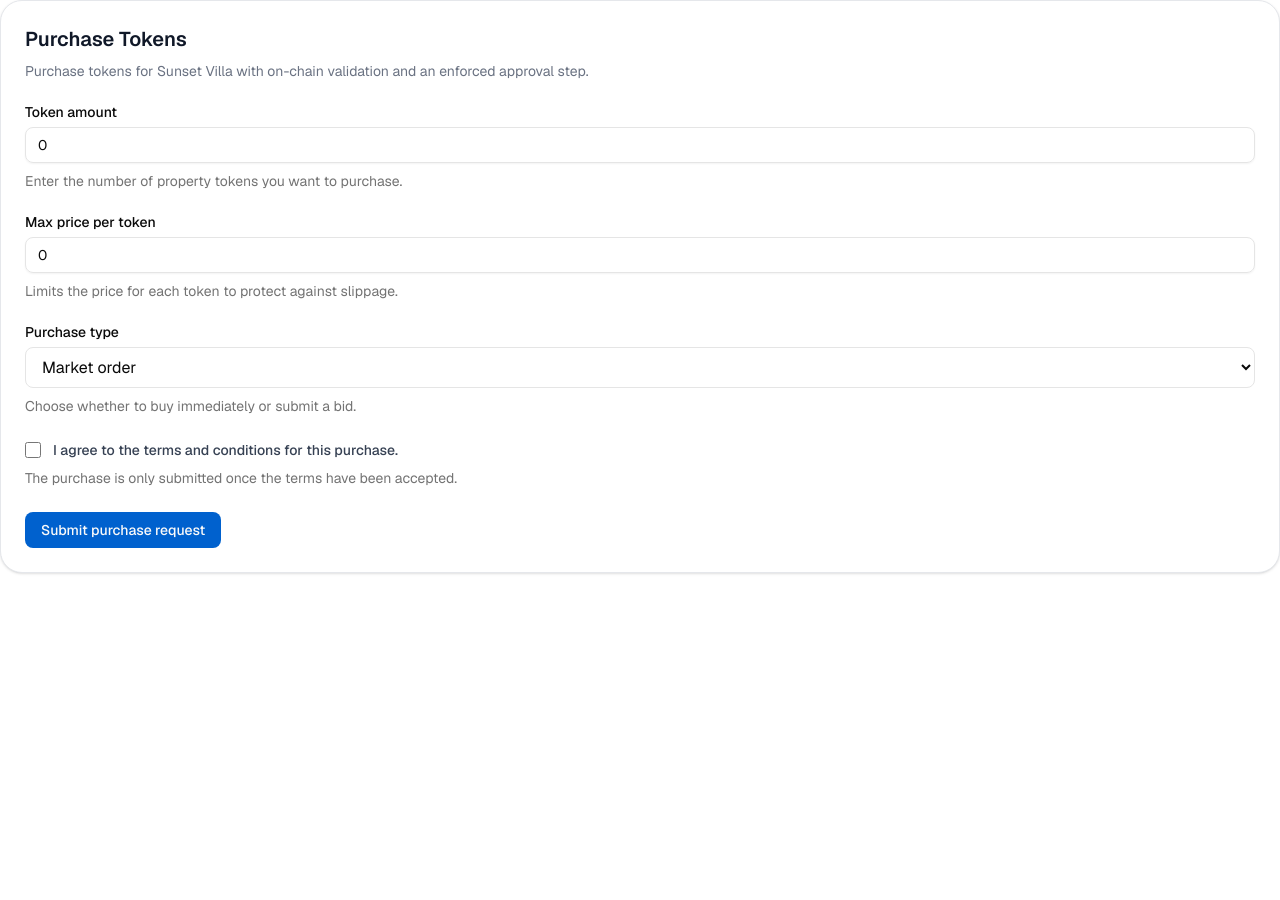
PurchaseTokenForm › validation › refuses a token amount that is not a whole number
This screenshot has width=1280, height=900.
Replace the text in the number field labelled "Token amount" with "1.5" at (640,145), box [25,127,1255,163]
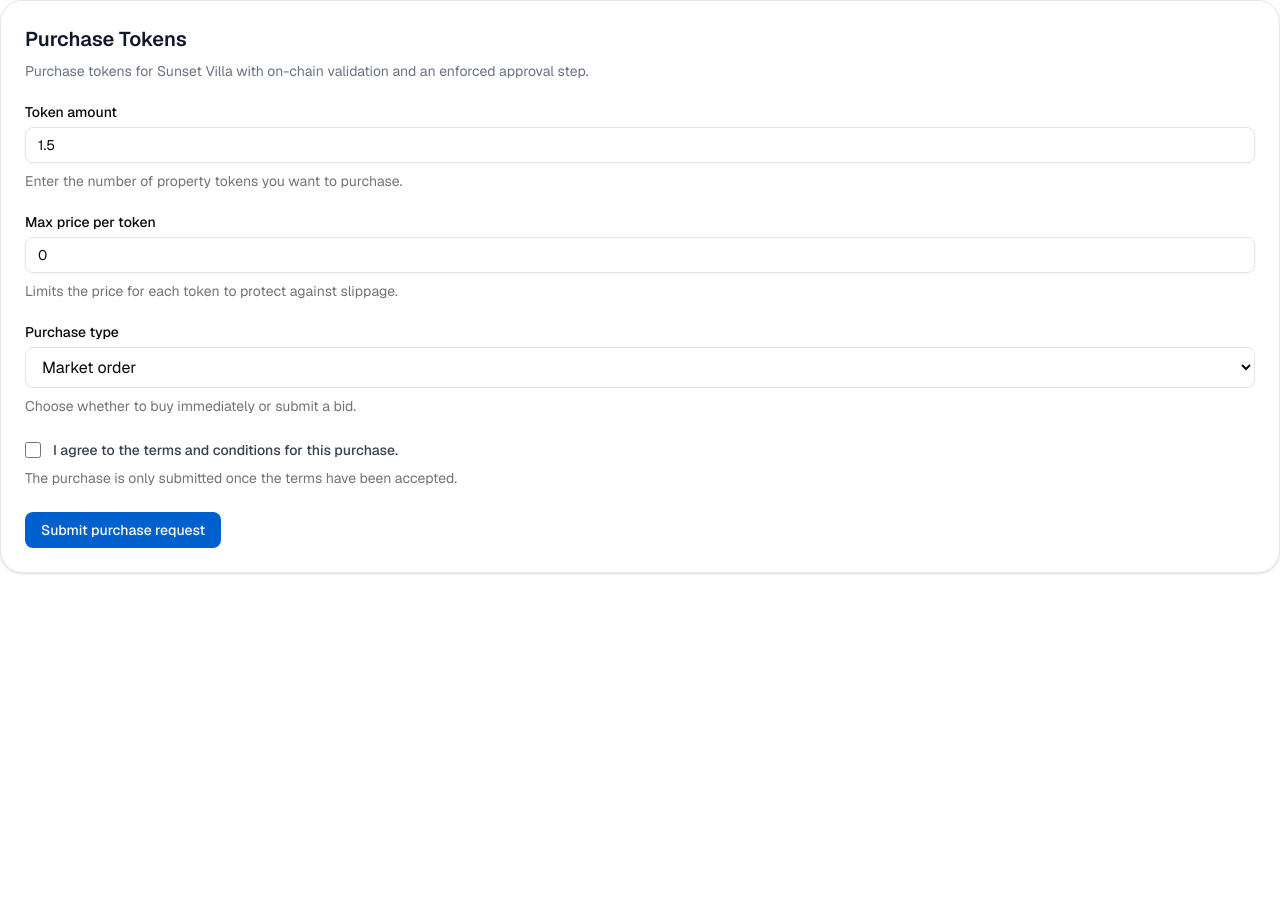
Replace the text in the number field labelled "Max price per token" with "250" at (640,255), box [25,237,1255,273]
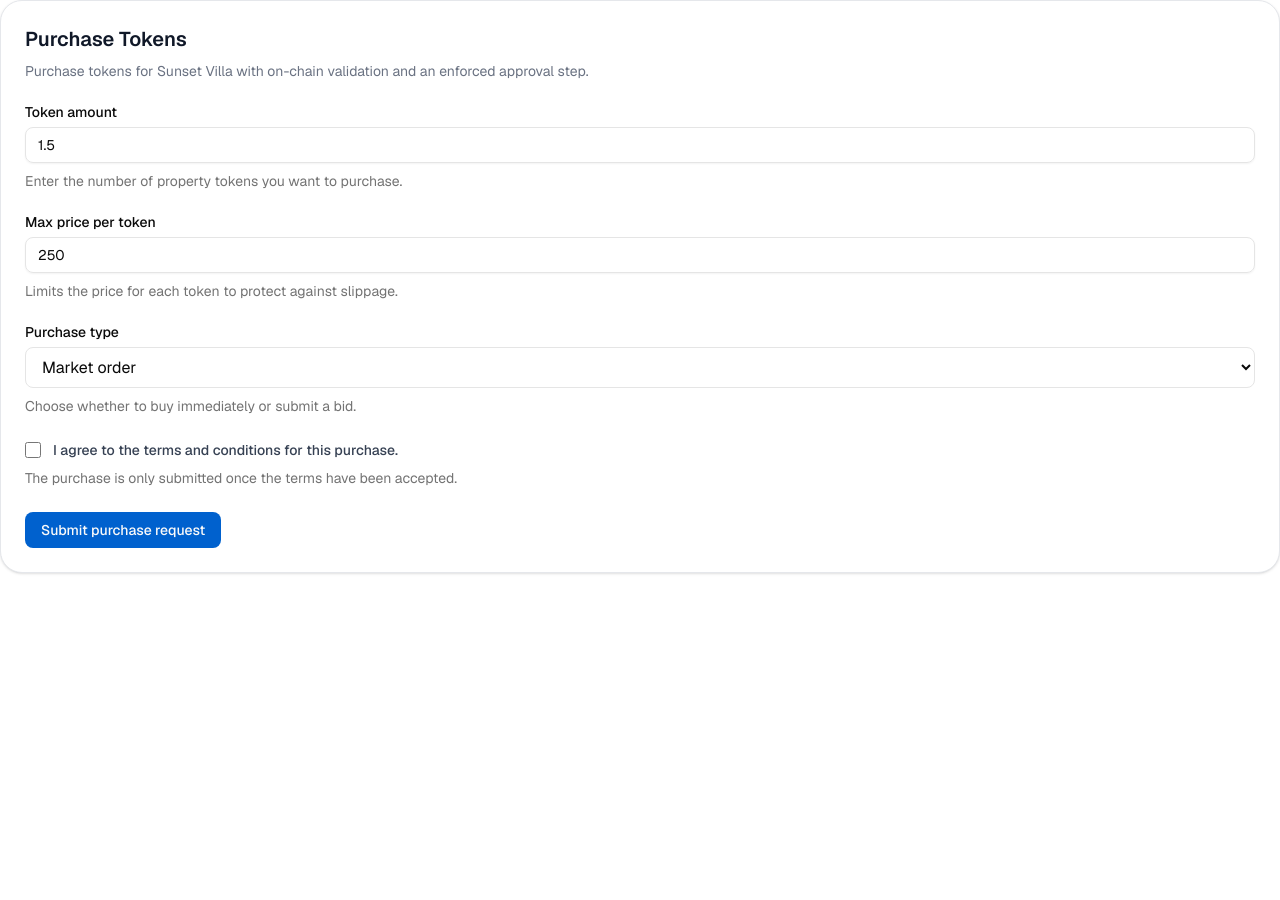
Click the checkbox labelled "I agree to the terms and conditions for this purchase.".
click(33, 450)  # box [25,442,41,458]
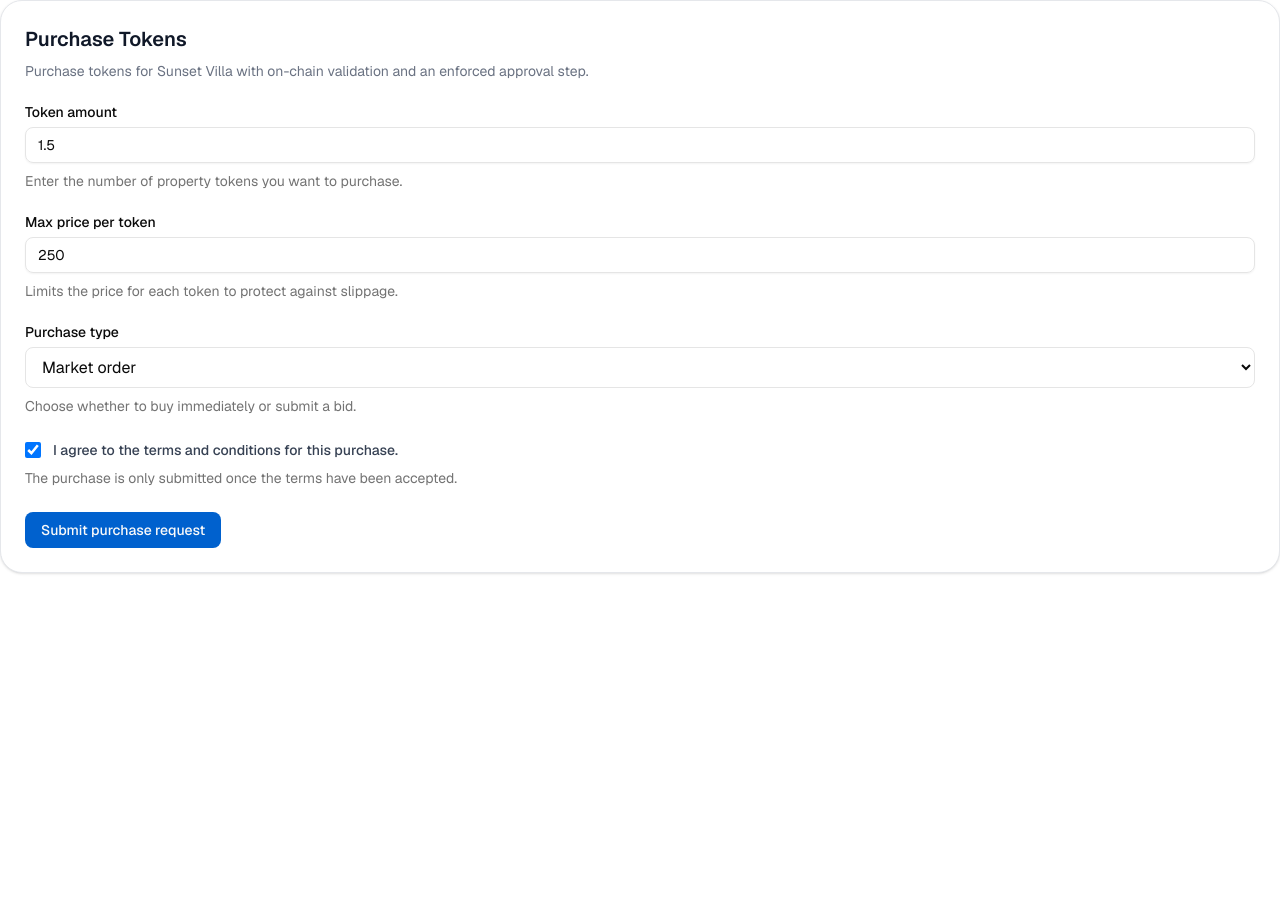
Click the button "Submit purchase request".
click(123, 530)  # box [25,512,221,548]
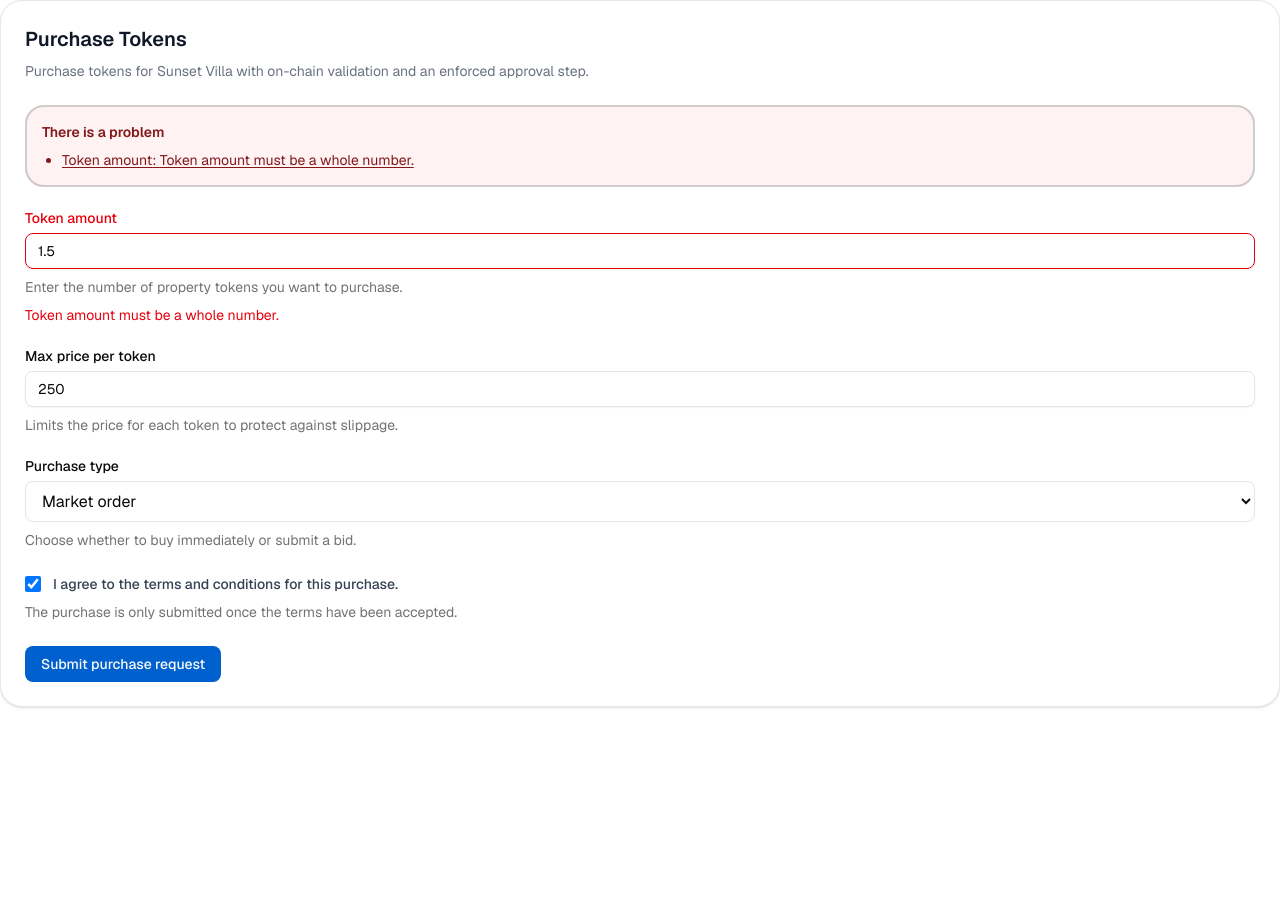
Result: the message "There is a problem Token amount: Token amount must be a whole number." is shown at [25,105,1255,187]
